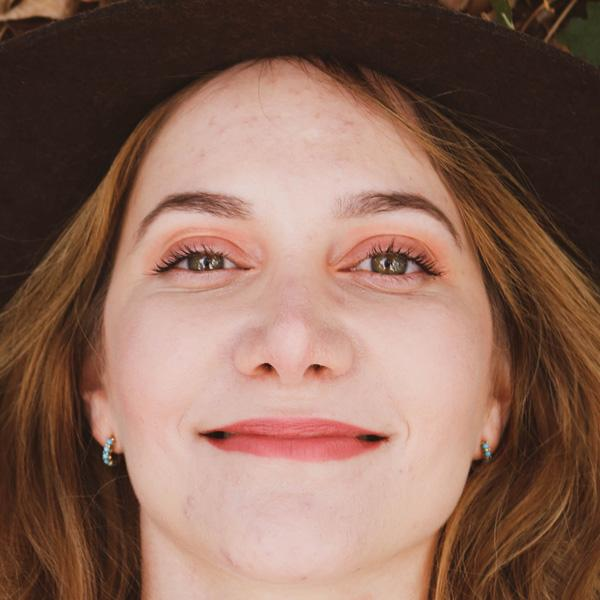Eyes: (145, 222, 261, 299), (328, 224, 448, 296)
